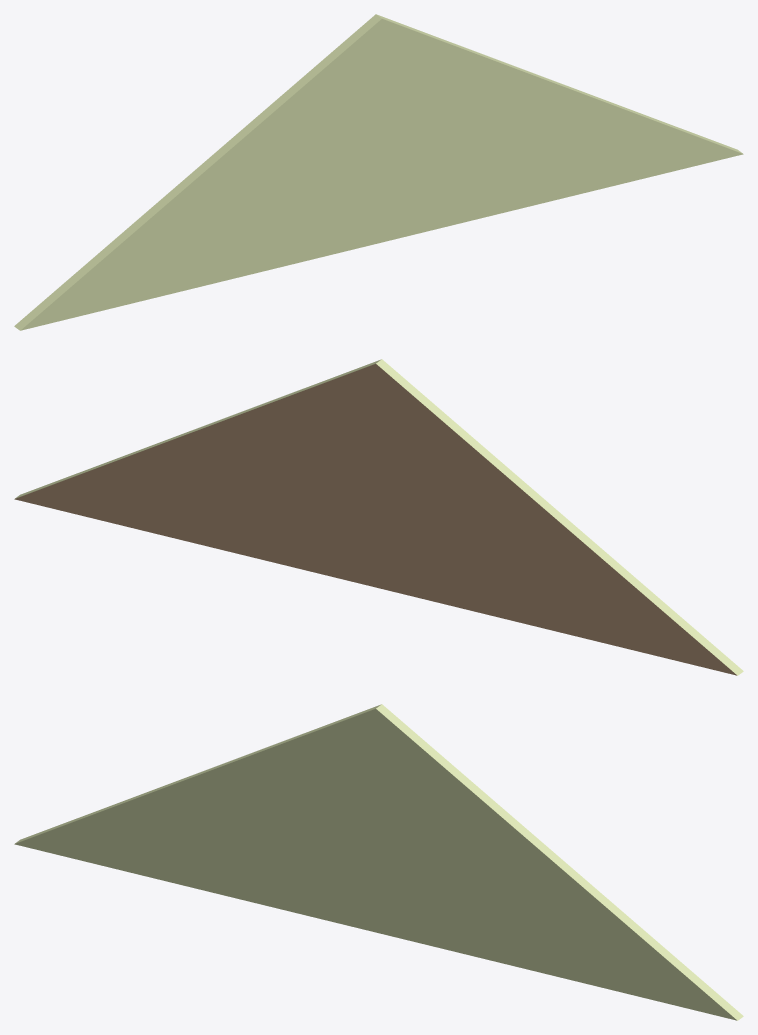
Rendered from Wall2_C5_20.fbx.
3 views of the same model, one above another, from view 1: azimuth 30°, elevation 25°; view 2: azimuth 150°, elevation 25°; view 3: azimuth 330°, elevation 25° (orthographic).
Parts seen in each view (by area): view 1: Wall2_C5_20; view 2: Wall2_C5_20; view 3: Wall2_C5_20.
Boxes of the visible parts, box(x1,y1,x2,y2) form: Wall2_C5_20: box(14, 14, 743, 330); Wall2_C5_20: box(14, 359, 743, 675); Wall2_C5_20: box(14, 704, 743, 1020).
Bounding box in the file's own units: 1015 × 300 × 15.
